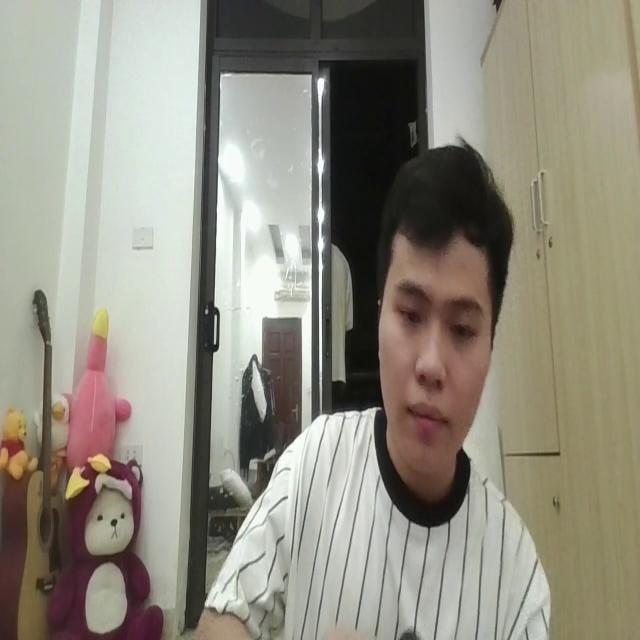student: (194, 124, 551, 640)
